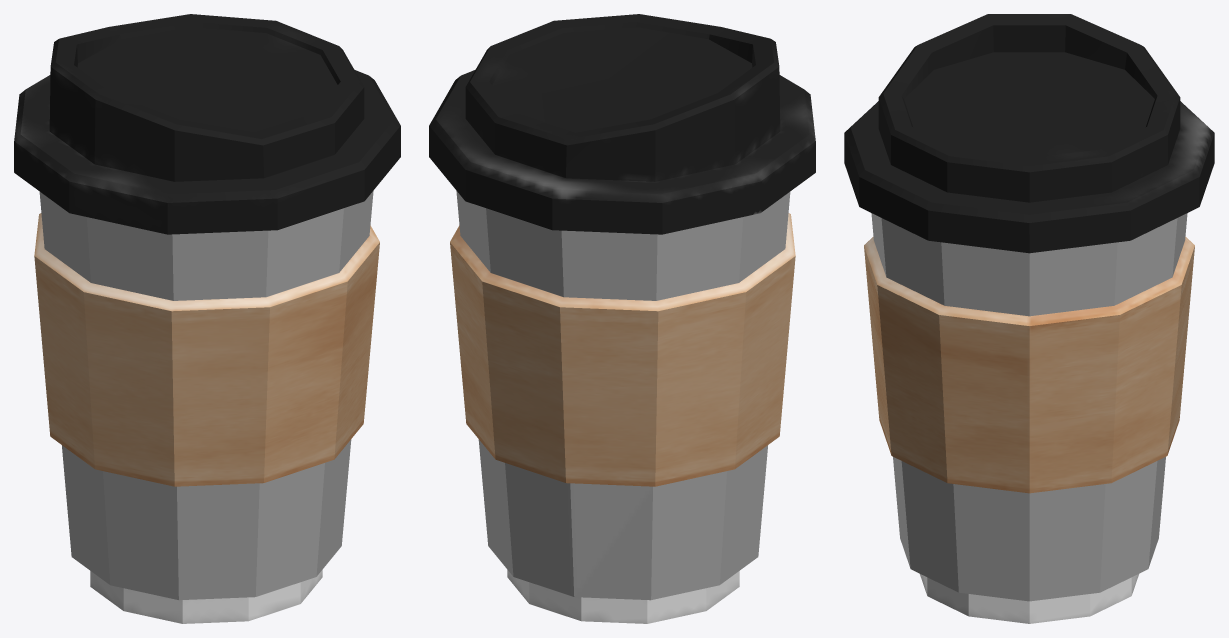
File: coffee.FBX
The picture shows the model from 3 angles, left to right: view 1: azimuth 30°, elevation 25°; view 2: azimuth 150°, elevation 25°; view 3: azimuth 270°, elevation 25°; orthographic projection. The views are drawn at different scales.
Visible parts, largest first — view 1: Object002; view 2: Object002; view 3: Object002.
Part boxes in pixels (<box>): Object002: <box>14,14,400,623</box>; Object002: <box>429,14,815,623</box>; Object002: <box>844,14,1214,623</box>.
Bounding box in the file's own units: 380 × 575 × 383.
